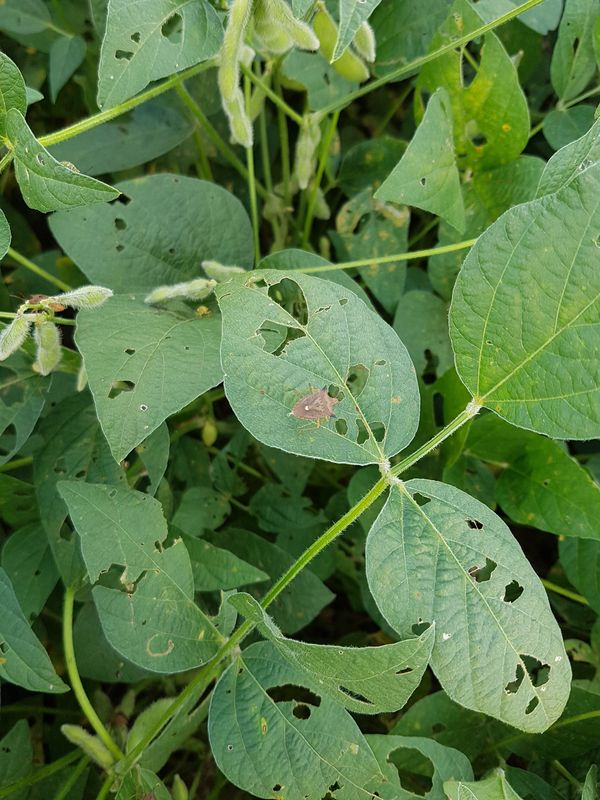Euschistus_heros_adulto: (280, 378, 345, 434)
